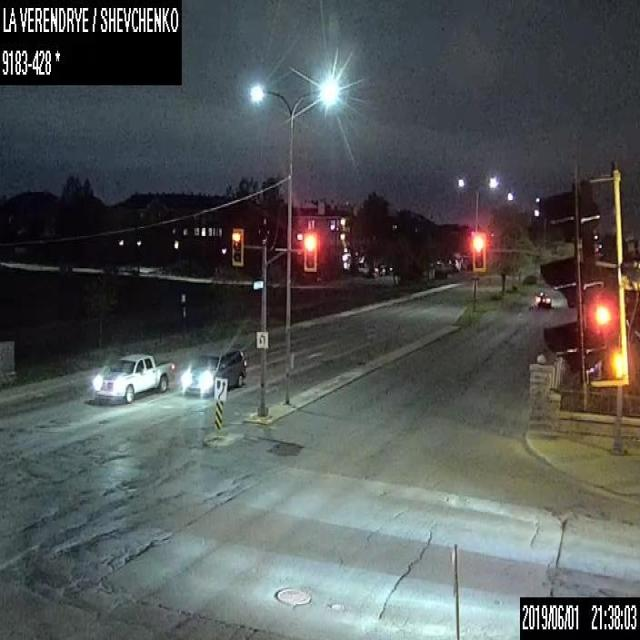vehicle: (92, 349, 175, 404), (183, 347, 247, 397), (534, 290, 552, 306), (366, 266, 378, 277), (378, 264, 389, 274)
